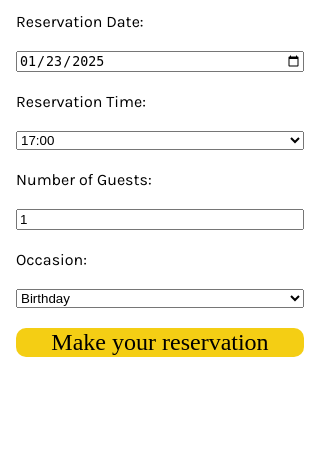
Test case: Time Validation › Required time validation
Select "" in the dropdown labelled "Reservation Time:" at {"x": 160, "y": 141}, box [16,131,304,150]
Click the button "Make your reservation" at {"x": 160, "y": 343}, box [16,328,304,357]
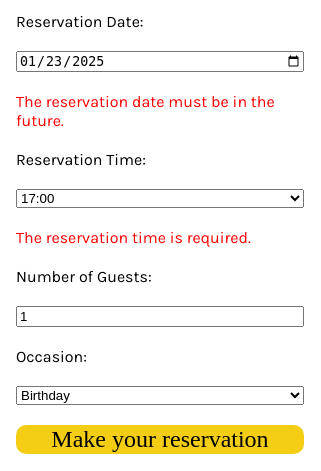
Expected: the text "The reservation time is required." is shown, [16,228,251,247]
